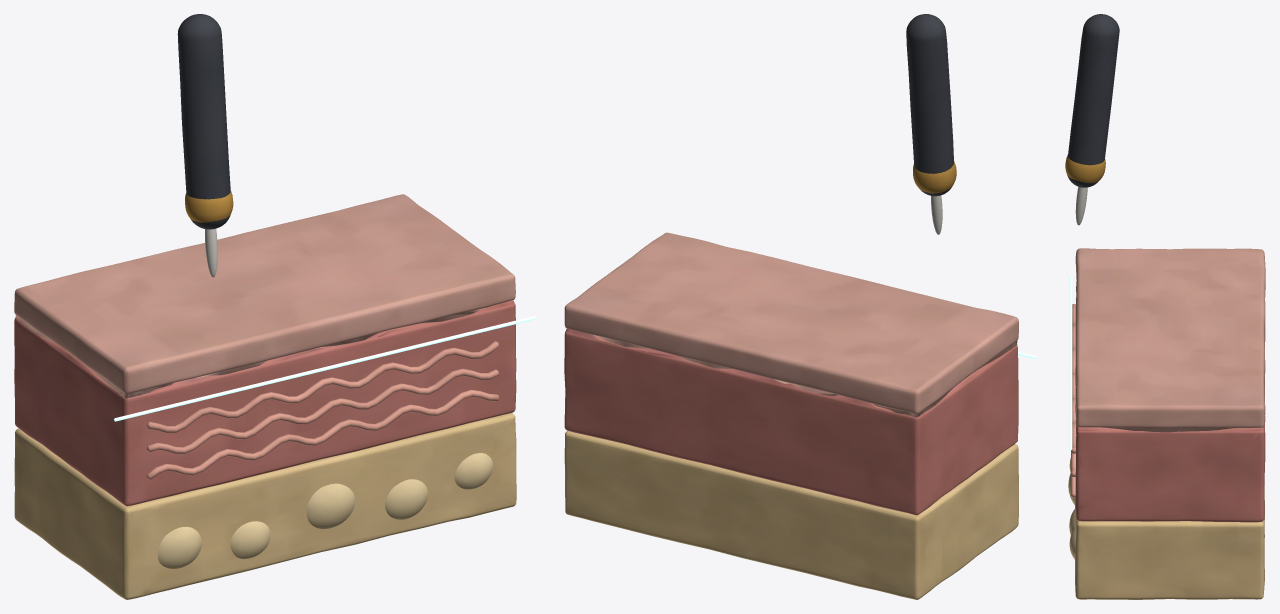
Rendered from capas-de-la-piel.glb.
3 renders of one model, left to right at view 1: azimuth 30°, elevation 25°; view 2: azimuth 150°, elevation 25°; view 3: azimuth 270°, elevation 25°, orthographic. The views are drawn at different scales.
Parts seen in each view (by area): view 1: Epidermis.002, Dermis.002, Hipodermis.002, Dermografo_cuerpo.001, Colageno_2, Colageno_0, Colageno_1, Franja_objetivo, Lobulo_2.001, Lobulo_0.001, Lobulo_3.001, Lobulo_1.001 (+2 smaller); view 2: Epidermis.002, Dermis.002, Hipodermis.002, Dermografo_cuerpo.001, Dermografo_anillo; view 3: Epidermis.002, Dermis.002, Hipodermis.002, Dermografo_cuerpo.001, Dermografo_anillo, Franja_objetivo, Colageno_2, Dermografo_aguja.
Boxes of the visible parts, bbox=[...] form: Epidermis.002: bbox=[14, 194, 515, 398]; Dermis.002: bbox=[14, 300, 516, 506]; Hipodermis.002: bbox=[14, 413, 516, 599]; Dermografo_cuerpo.001: bbox=[177, 14, 230, 229]; Colageno_2: bbox=[146, 341, 499, 432]; Colageno_0: bbox=[146, 389, 498, 479]; Colageno_1: bbox=[147, 368, 498, 454]; Franja_objetivo: bbox=[114, 316, 535, 421]; Lobulo_2.001: bbox=[306, 483, 354, 528]; Lobulo_0.001: bbox=[157, 527, 201, 568]; Lobulo_3.001: bbox=[385, 479, 428, 519]; Lobulo_1.001: bbox=[230, 521, 270, 558]; Epidermis.002: bbox=[564, 232, 1018, 417]; Dermis.002: bbox=[564, 328, 1018, 515]; Hipodermis.002: bbox=[564, 431, 1018, 599]; Dermografo_cuerpo.001: bbox=[906, 14, 953, 196]; Dermografo_anillo: bbox=[913, 161, 956, 193]; Epidermis.002: bbox=[1075, 248, 1265, 432]; Dermis.002: bbox=[1075, 286, 1265, 522]; Hipodermis.002: bbox=[1074, 416, 1265, 599]; Dermografo_cuerpo.001: bbox=[1067, 14, 1119, 187]; Dermografo_anillo: bbox=[1065, 155, 1105, 183]; Franja_objetivo: bbox=[1069, 277, 1072, 450]; Colageno_2: bbox=[1071, 304, 1076, 453]; Dermografo_aguja: bbox=[1075, 187, 1087, 225].
Bounding box in the file's own units: 4.72 × 5.94 × 2.33.
Materials: 19 (18 with a texture image).
